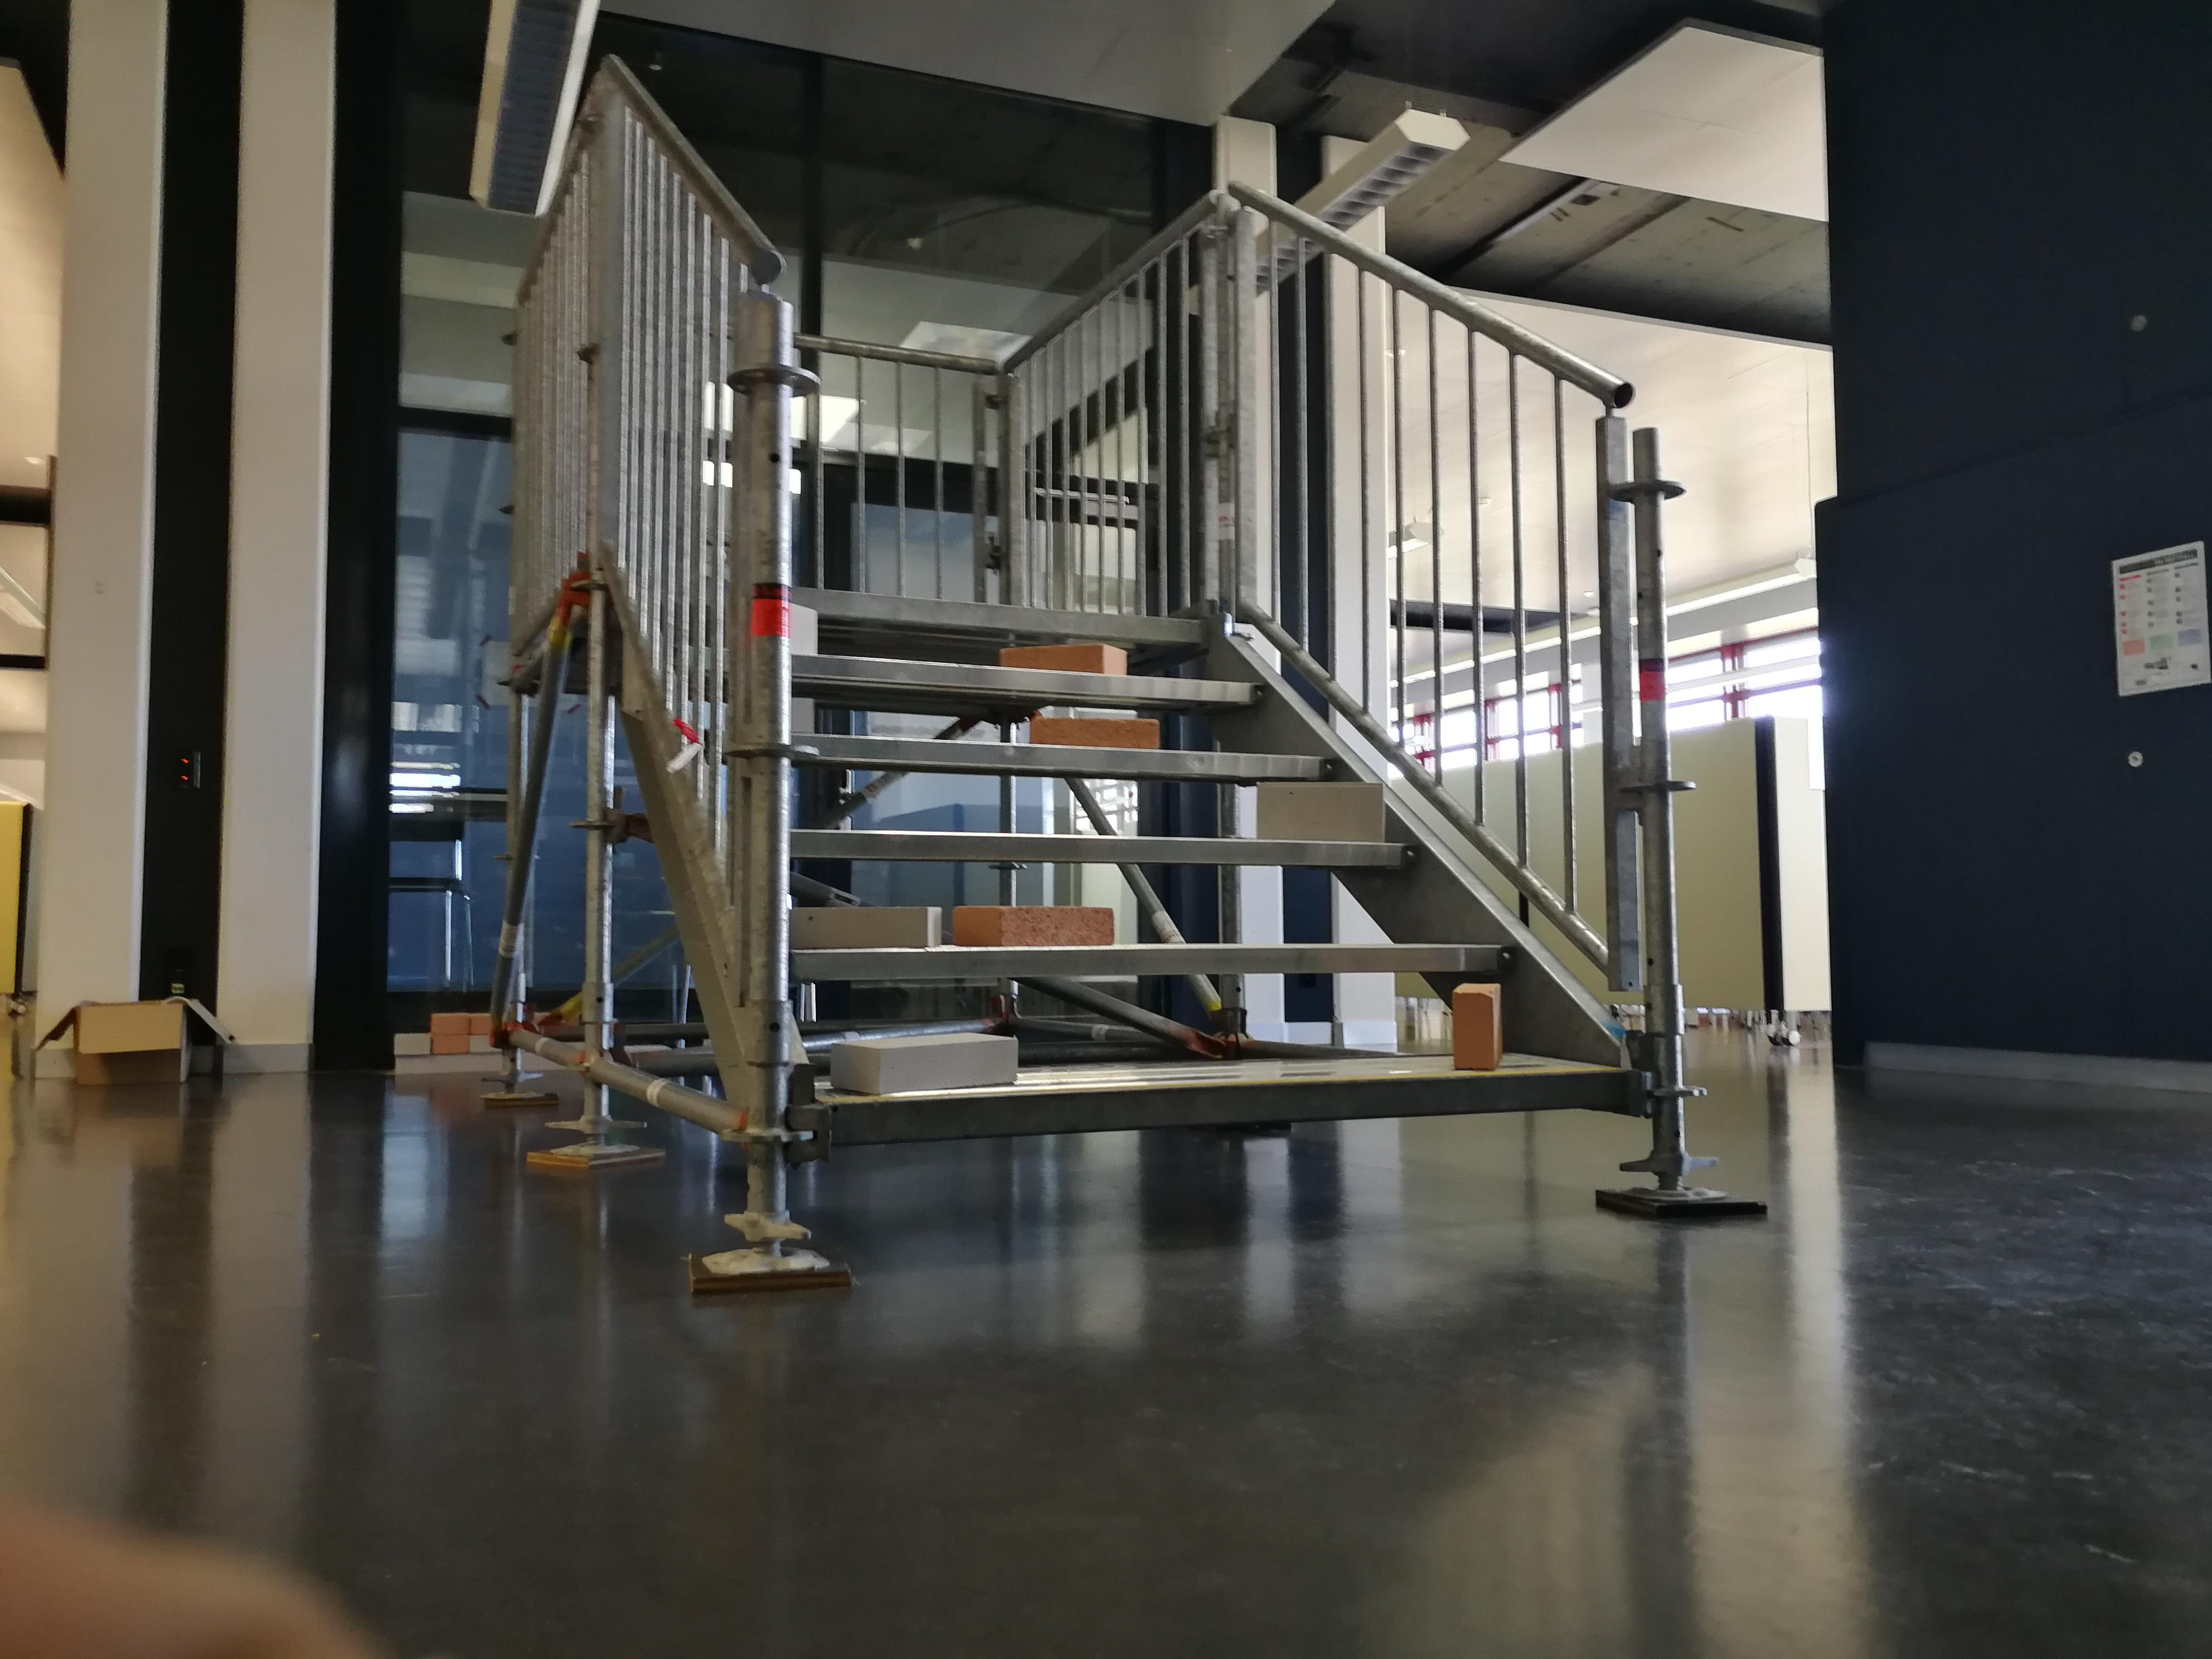brick: (833, 1035, 1015, 1093), (949, 901, 1116, 948), (1256, 784, 1381, 845), (787, 906, 941, 946), (1026, 714, 1157, 753), (1000, 641, 1127, 676), (1451, 985, 1501, 1066), (787, 605, 815, 655), (791, 701, 812, 734)
edge: (831, 1065, 1622, 1148), (798, 732, 1332, 781), (786, 943, 1512, 978), (815, 652, 1254, 709), (779, 829, 1421, 864), (775, 587, 1209, 633)
stairs: (695, 242, 1764, 1297)
steps: (773, 565, 1642, 1175)
